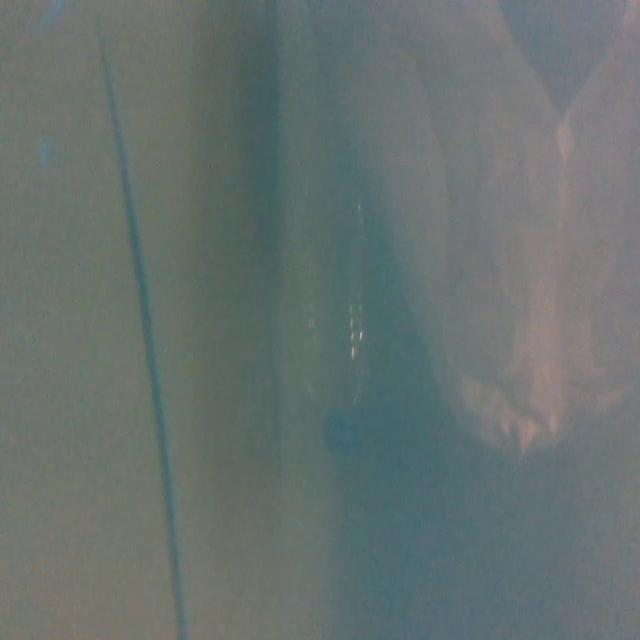plastic bags: (338, 1, 640, 452)
plastic bottle: (288, 180, 372, 450)
